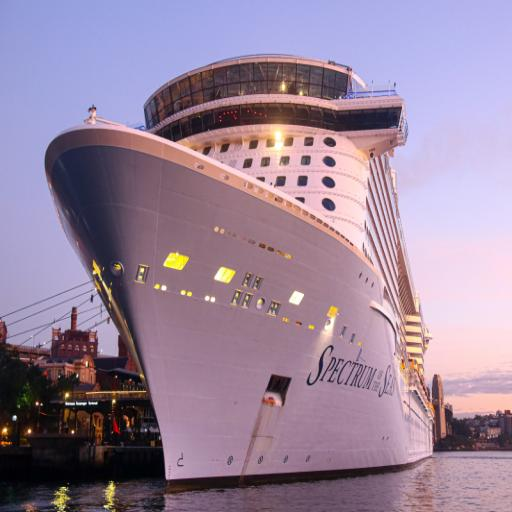cruises: (44, 39, 442, 485)
